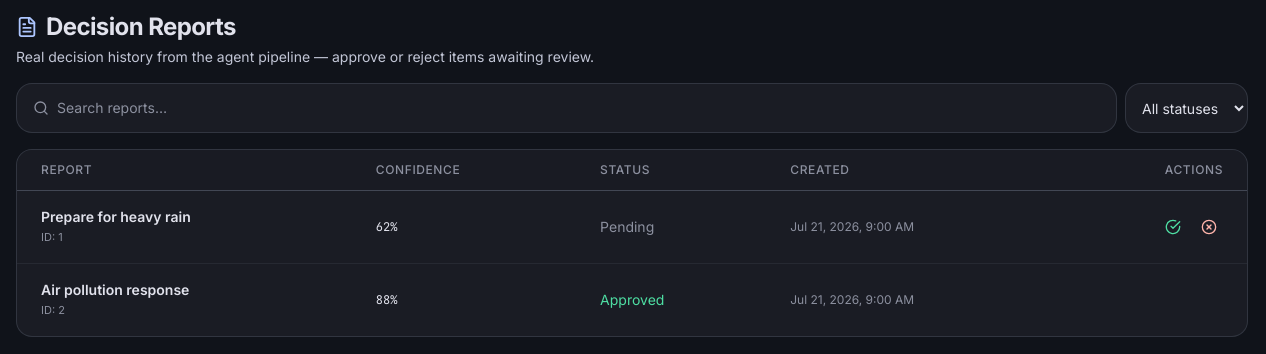
Test: ReportsPage › filters reports by status
The width and height of the screenshot is (1266, 354).
Expected: the number of rows with test id "report-row" is 2, [17,190,1247,264]; [17,264,1247,336]
Select "Approved" in the dropdown with test id "reports-status-filter": (1186, 108) [1125,83,1248,133]
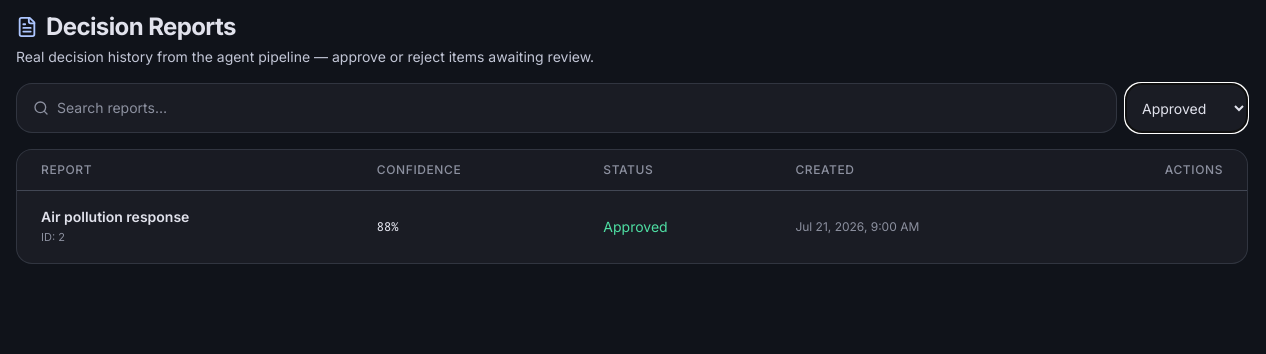
Expected: the text "Air pollution response" is shown, [41,208,189,225]
Result: the number of rows with test id "report-row" is 1 at [17,190,1247,263]
